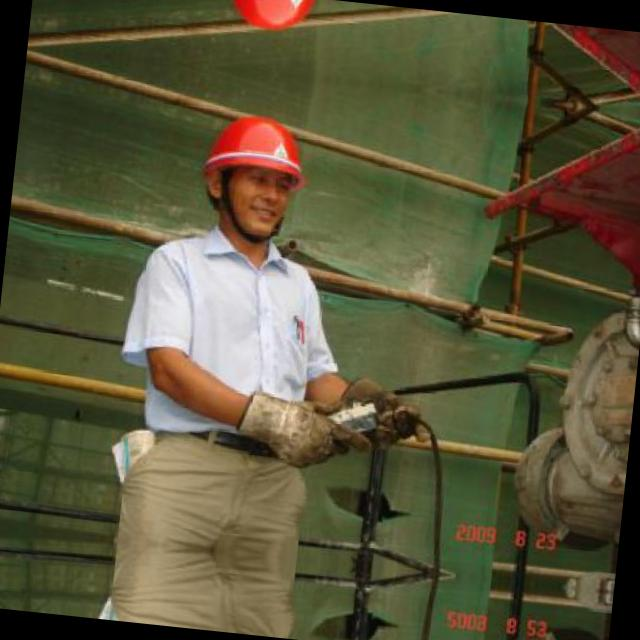helmet: (173, 100, 327, 256), (194, 0, 340, 46)
